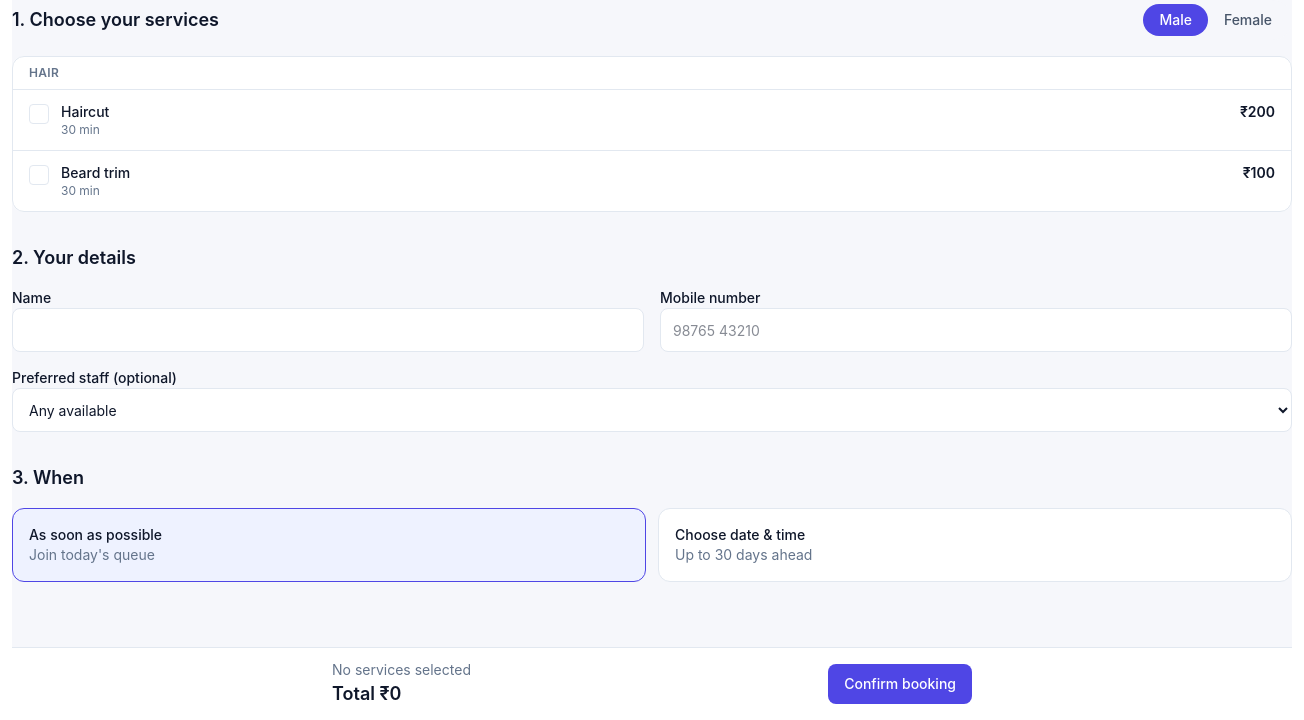
Test: BookingForm › does not send an incomplete booking
Click the button "Confirm booking" at (900, 684), box left=828, top=664, right=972, bottom=704
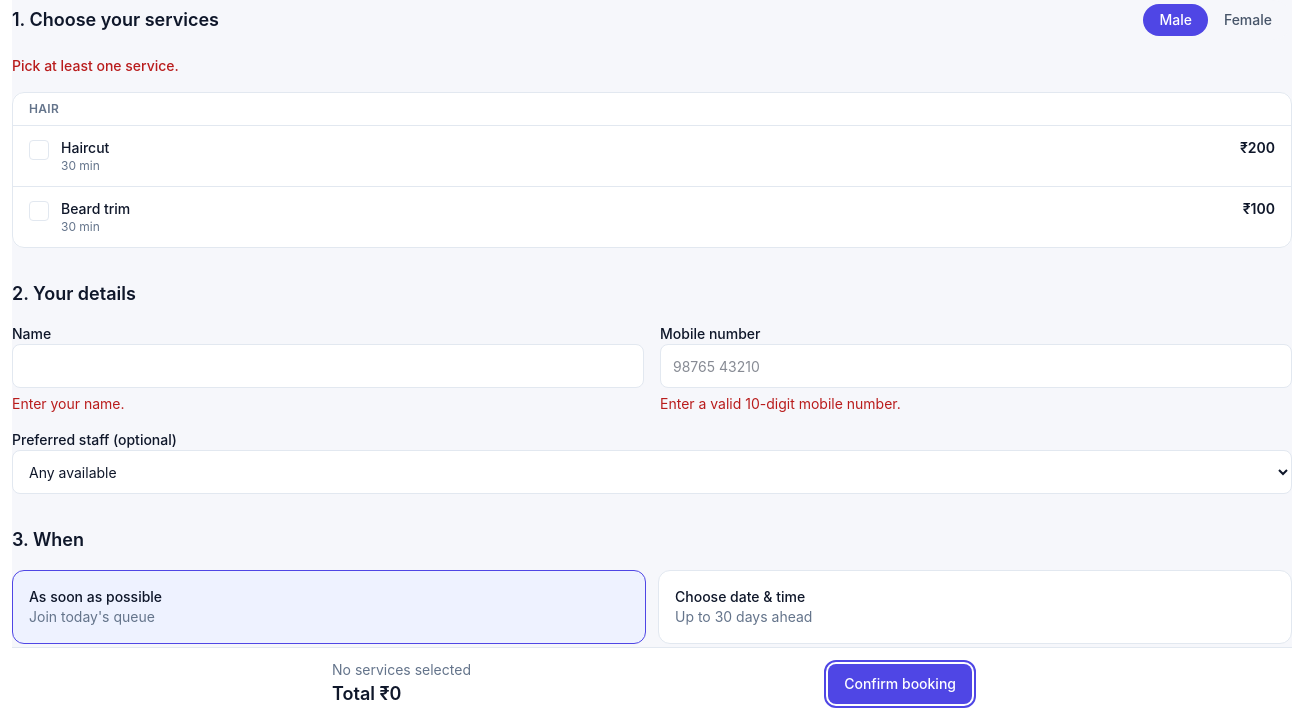
Result: the text "Pick at least one service." is shown at left=12, top=57, right=179, bottom=74
Result: the text "Enter your name." is shown at left=12, top=395, right=125, bottom=412
Result: the text "Enter a valid 10-digit mobile number." is shown at left=660, top=395, right=901, bottom=412
